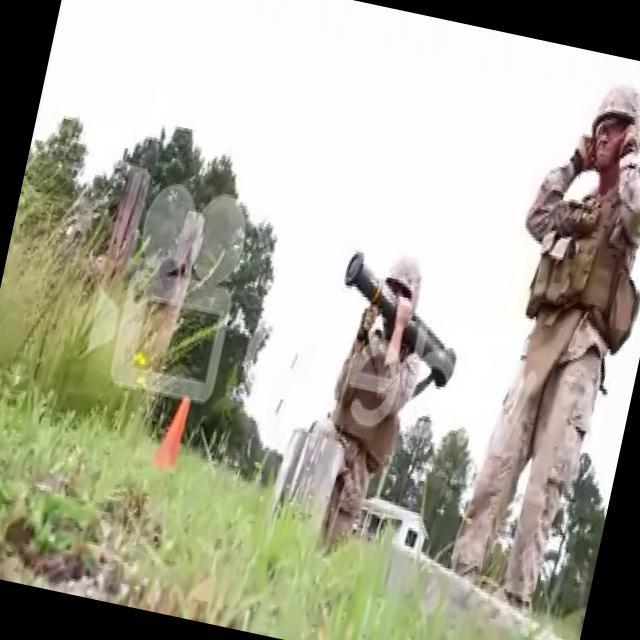rocket: (322, 249, 474, 396)
